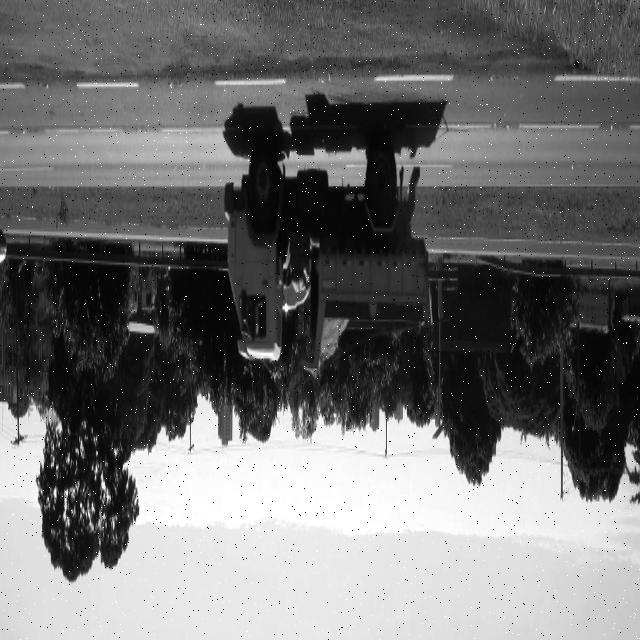-axle: (244, 132, 278, 228), (364, 135, 397, 221)
